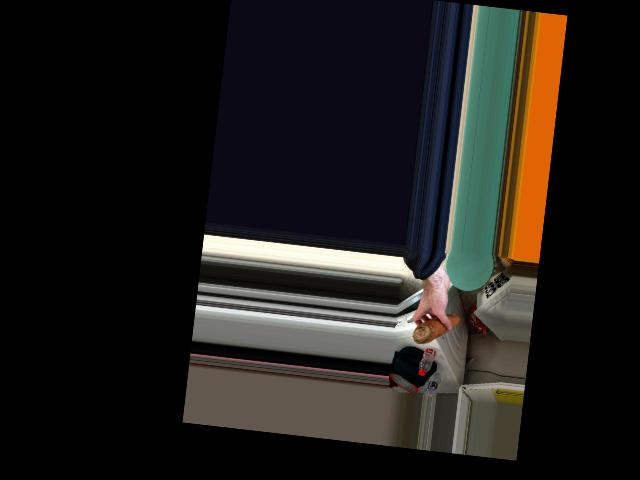sweet_potato: (412, 311, 461, 348)
